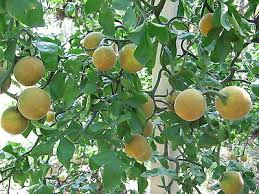orange: (175, 85, 207, 122), (17, 87, 51, 121), (11, 54, 47, 86), (116, 42, 146, 73), (90, 45, 120, 71), (122, 132, 149, 159)
